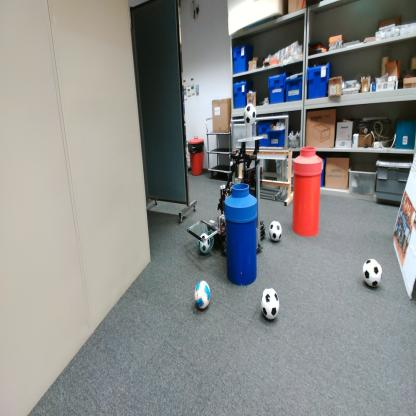ball: (260, 286, 280, 322), (362, 256, 383, 290), (194, 279, 210, 312), (243, 101, 257, 128), (268, 219, 283, 244), (198, 231, 211, 256)
